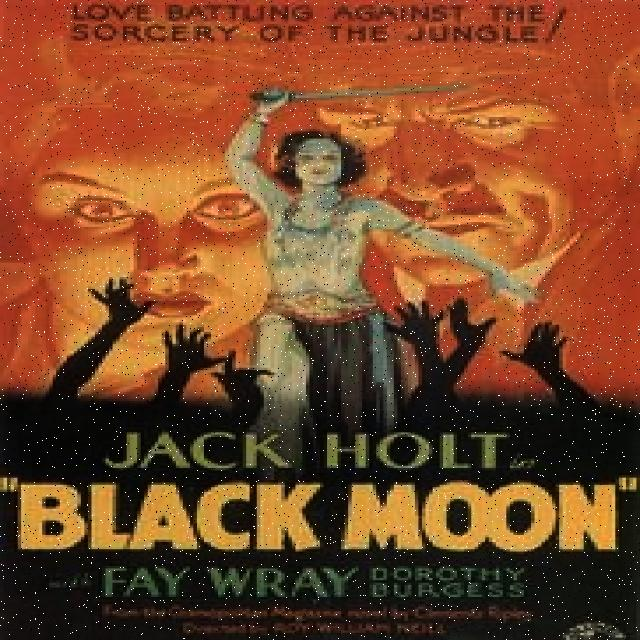movie-judul: (0, 470, 640, 554)
picture: (11, 59, 640, 436)
